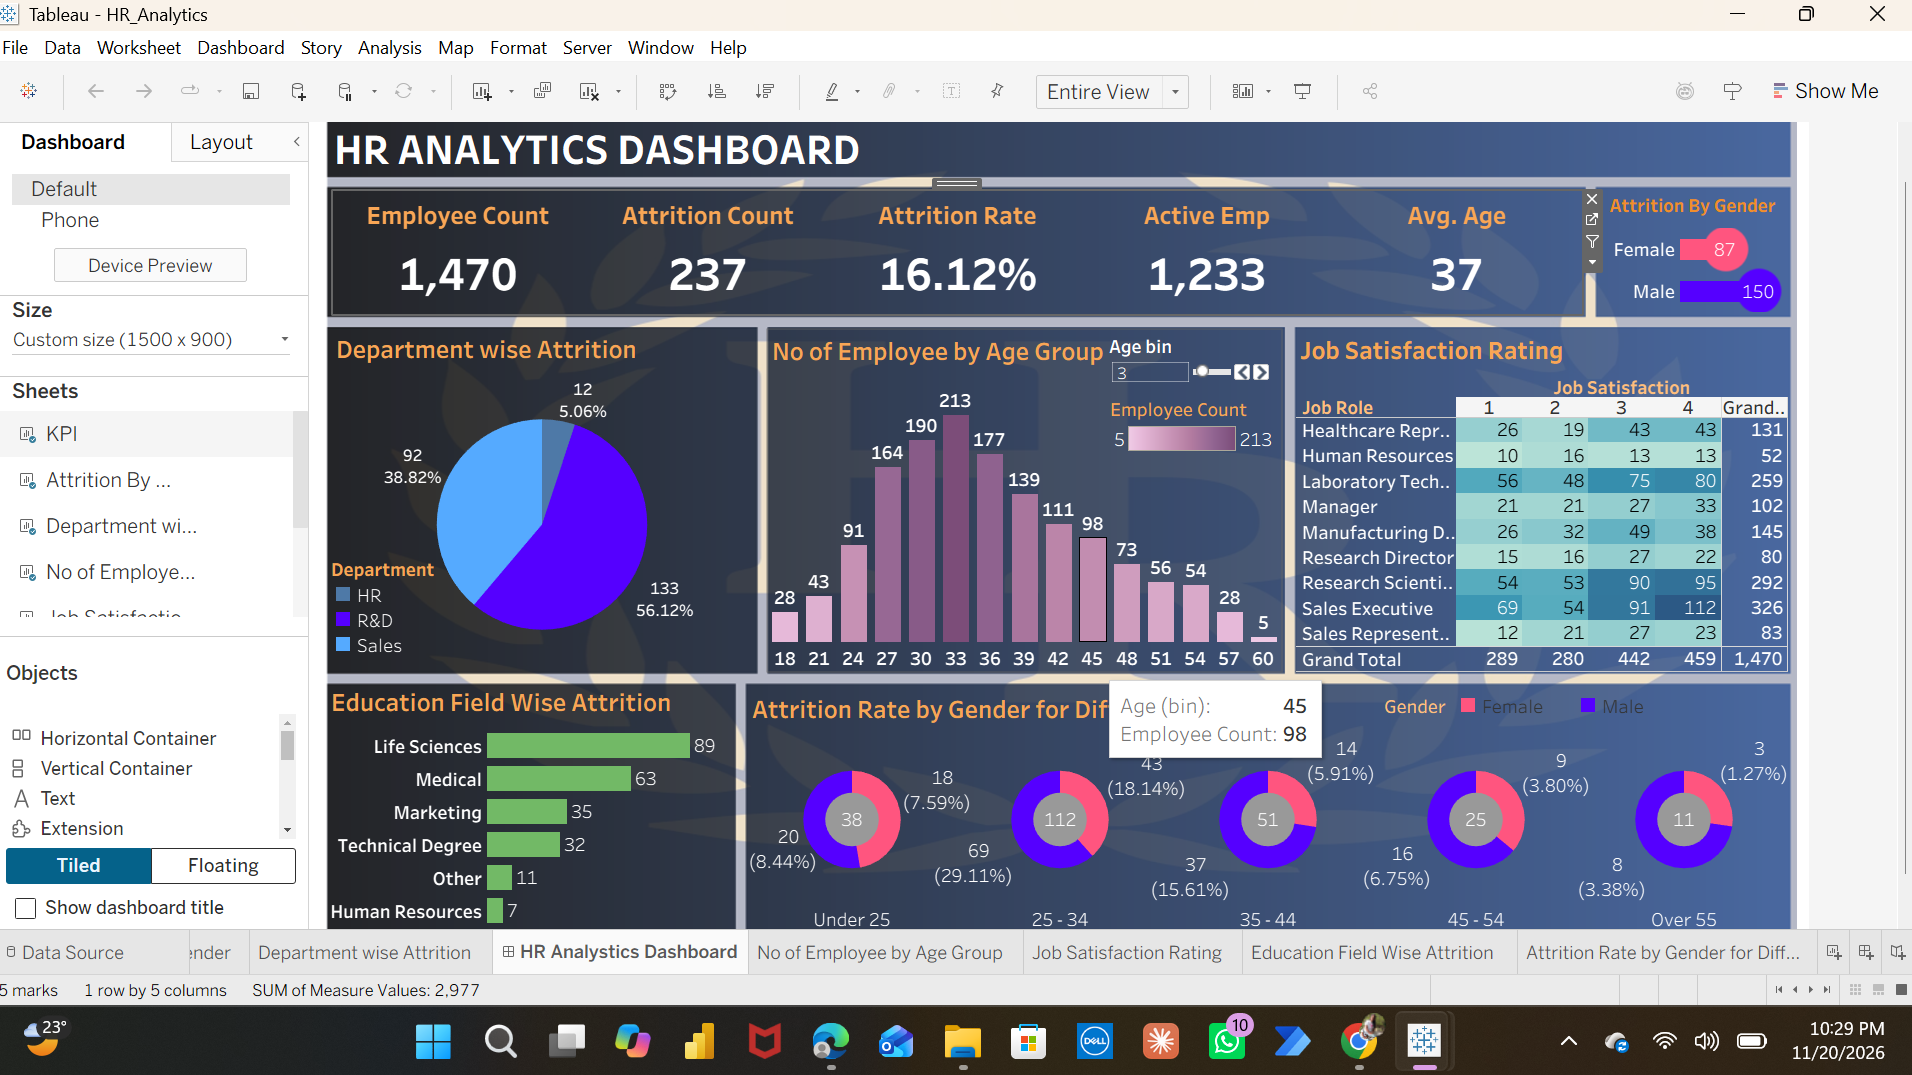

The page's visual inventory and layout, read from the dashboard file:
{"tool":"tableau","page":{"name":"HR Analystics Dashboard","canvas":[1500,900],"ordinal":0},"visuals":[{"type":"image","param":"C:/Users/chari/Downloads/HR background.pptx.png","box":[8,8,1484,884]},{"type":"text","box":[21,42,1152,67]},{"type":"worksheet","title":"Attrition By Gender","mark":"Automatic","rows":["Gender"],"cols":["Calculation_2415662156738560","Calculation_2415662156738560"],"box":[1291,116,185,124]},{"type":"worksheet","title":"KPI","mark":"Automatic","box":[24,119,1249,123]},{"type":"worksheet","title":"Department wise Attrition","mark":"Pie","box":[23,256,420,345]},{"type":"worksheet","title":"Job Satisfaction Rating","mark":"Square","rows":["Job Role"],"cols":["Job Satisfaction"],"box":[987,257,492,343]},{"type":"worksheet","title":"No of Employee by Age Group","mark":"Automatic","rows":["Employee Count"],"cols":["Age (bin)"],"box":[459,258,513,341]},{"type":"parameter","param":"[Parameters].[Parameter 1]","box":[800,261,163,52]},{"type":"legend","title":"No of Employee by Age Group","param":"[federated.0m2my981vpkjnf1bl577m036e3ie].[sum:Employee Count:qk]","box":[801,324,167,70]},{"type":"legend","title":"Department wise Attrition","param":"[federated.0m2my981vpkjnf1bl577m036e3ie].[none:Department:nk]","box":[22,484,126,108]},{"type":"worksheet","title":"Education Field Wise Attrition","mark":"Automatic","rows":["Education Field"],"cols":["Calculation_2415662156738560"],"box":[18,609,404,246]},{"type":"worksheet","title":"Attrition Rate by Gender for Different Age Group","mark":"Pie","rows":["Calculation_2771636519571458","Calculation_2771636519571458"],"cols":["CF_age band"],"box":[439,616,1040,244]},{"type":"legend","title":"Attrition Rate by Gender for Different Age Group","param":"[federated.0m2my981vpkjnf1bl577m036e3ie].[none:Gender:nk]","box":[1075,621,342,42]}]}

Visuals, with their boxes on the page's 1500x900 design canvas (x1, y1, x2, y2). These are canvas units, not pixel positions in the 1912x1075 screenshot, which may show the page scaled, cropped or inside an application window:
image: [8,8,1492,892]
text: [21,42,1173,109]
"Attrition By Gender" worksheet: [1291,116,1476,240]
"KPI" worksheet: [24,119,1273,242]
"Department wise Attrition" worksheet (Pie marks): [23,256,443,601]
"Job Satisfaction Rating" worksheet (Square marks): [987,257,1479,600]
"No of Employee by Age Group" worksheet: [459,258,972,599]
parameter: [800,261,963,313]
"No of Employee by Age Group" legend: [801,324,968,394]
"Department wise Attrition" legend: [22,484,148,592]
"Education Field Wise Attrition" worksheet: [18,609,422,855]
"Attrition Rate by Gender for Different Age Group" worksheet (Pie marks): [439,616,1479,860]
"Attrition Rate by Gender for Different Age Group" legend: [1075,621,1417,663]
